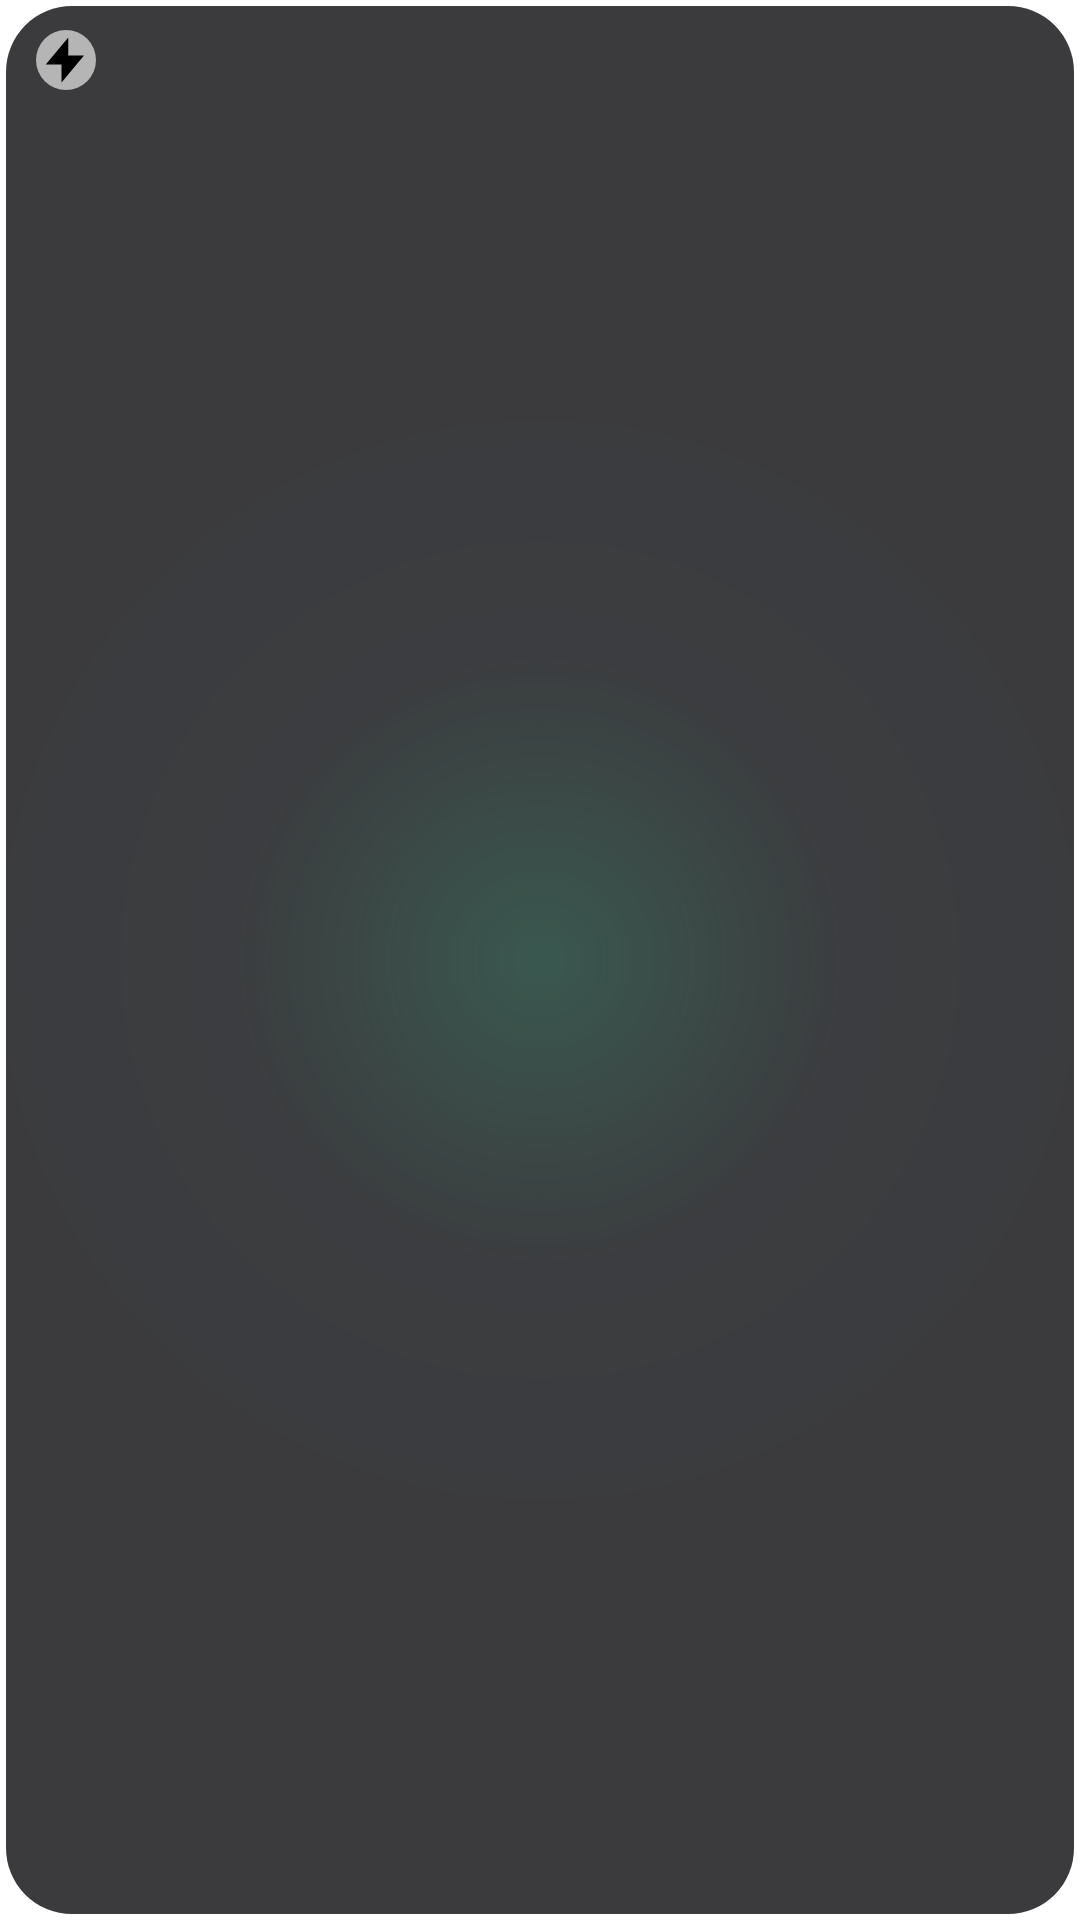

Where to tap for icons on this 1080 × 1920 app screen, as (x=x, y=y):
bolt: (x=66, y=60)
